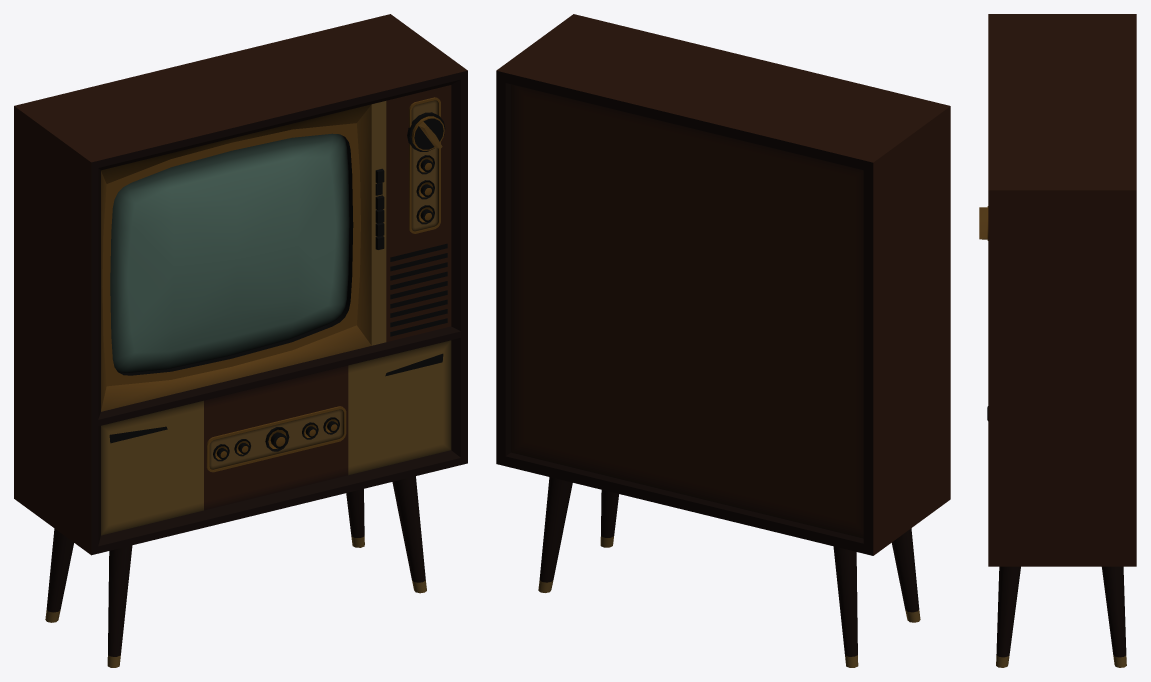
File: retro_tv_01.FBX
3 renders of one model, left to right at view 1: azimuth 30°, elevation 25°; view 2: azimuth 150°, elevation 25°; view 3: azimuth 270°, elevation 25°, orthographic. The views are drawn at different scales.
Parts seen in each view (by area): view 1: old_tv_01; view 2: old_tv_01; view 3: old_tv_01.
Part boxes in pixels (left/top/right/bottom): old_tv_01: left=14, top=14, right=467, bottom=667; old_tv_01: left=496, top=14, right=950, bottom=667; old_tv_01: left=979, top=14, right=1136, bottom=667.
Size of the model in its own units: 85.6 by 112 by 32.32.
